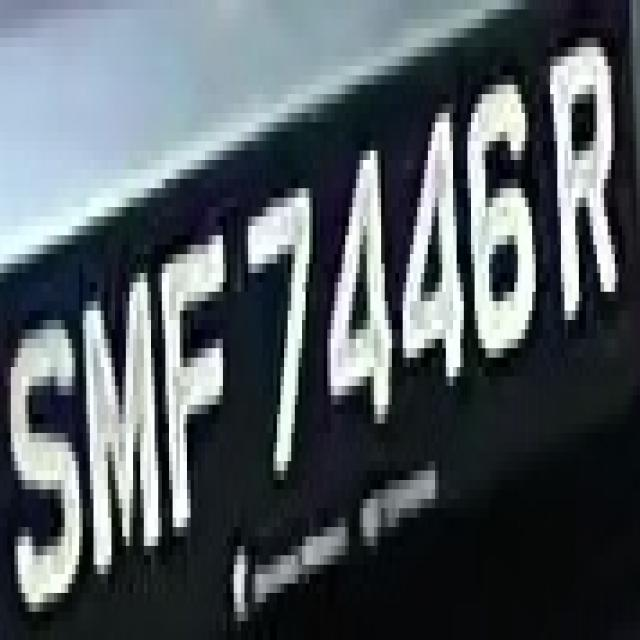4: (309, 141, 406, 452), (378, 66, 468, 395)
6: (450, 57, 540, 414)
7: (230, 188, 324, 536)
F: (151, 216, 241, 584)
M: (75, 244, 162, 584)
R: (536, 28, 626, 358)
S: (14, 273, 83, 640)
